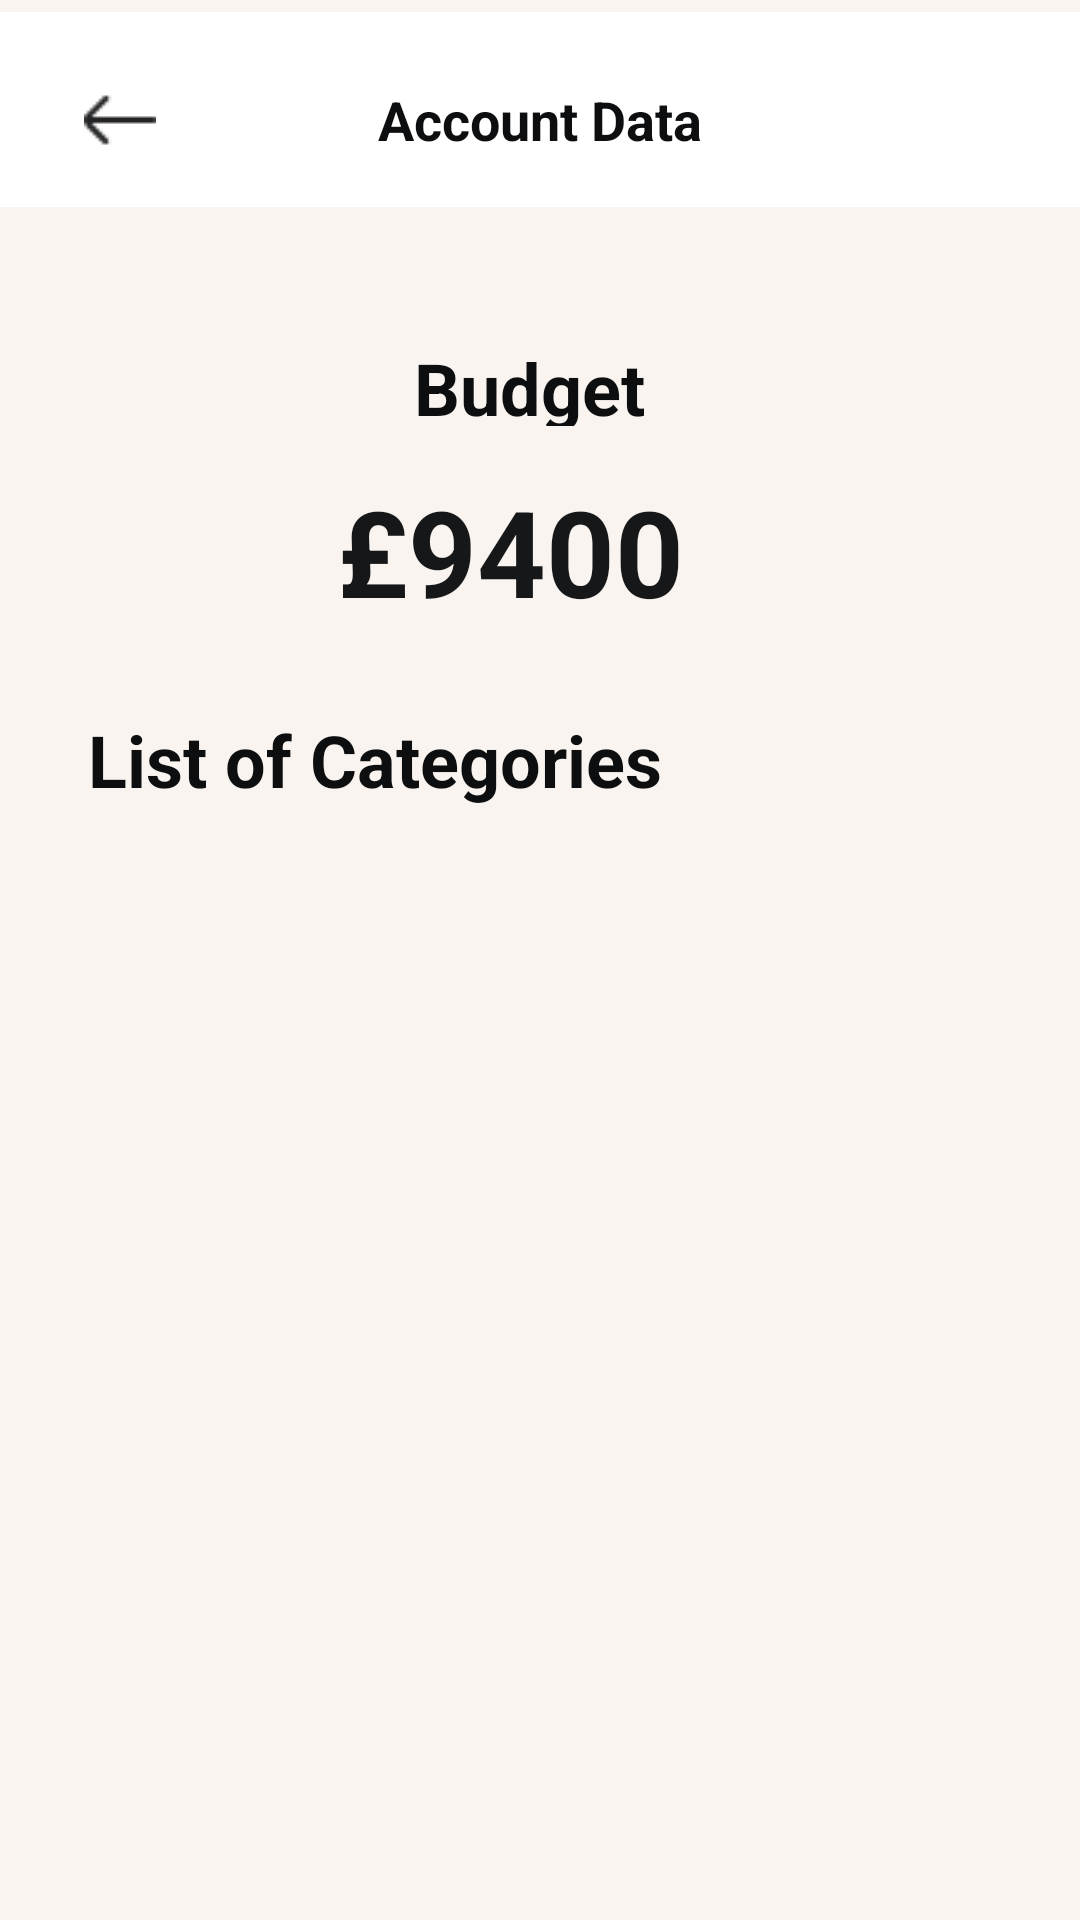

Screen size 1080*1920. Icon name, then its center in pixels as point (x, y):
back arrow: point (120, 120)
